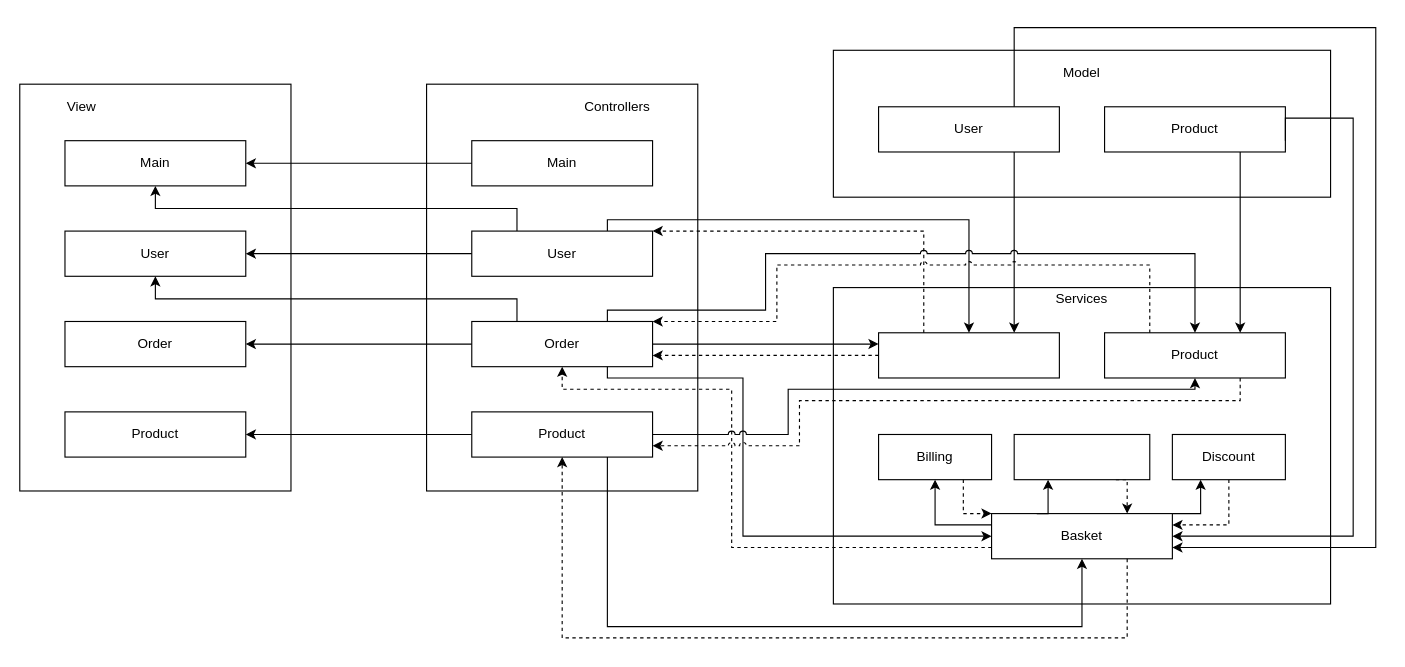
Image size: 1405x667. Some labels were removed from this diagram. The shapes that lost their labels are listed below. From the top down, each one's centre as x and y in pixels, then its label:
At point 968,355: "Security".
At point 1081,456: "Communication".
